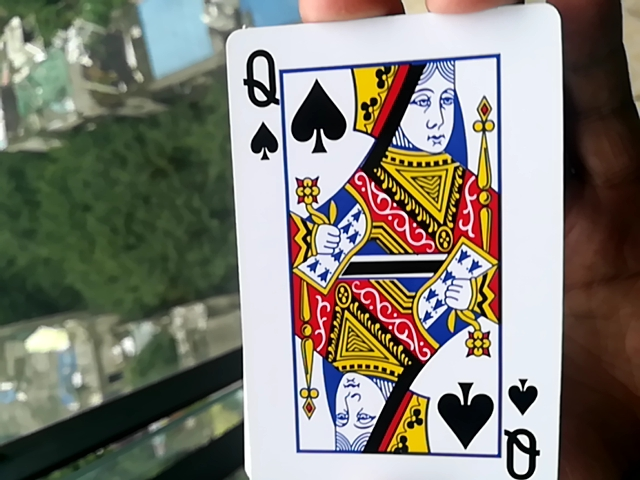ht q: (216, 13, 568, 480)
